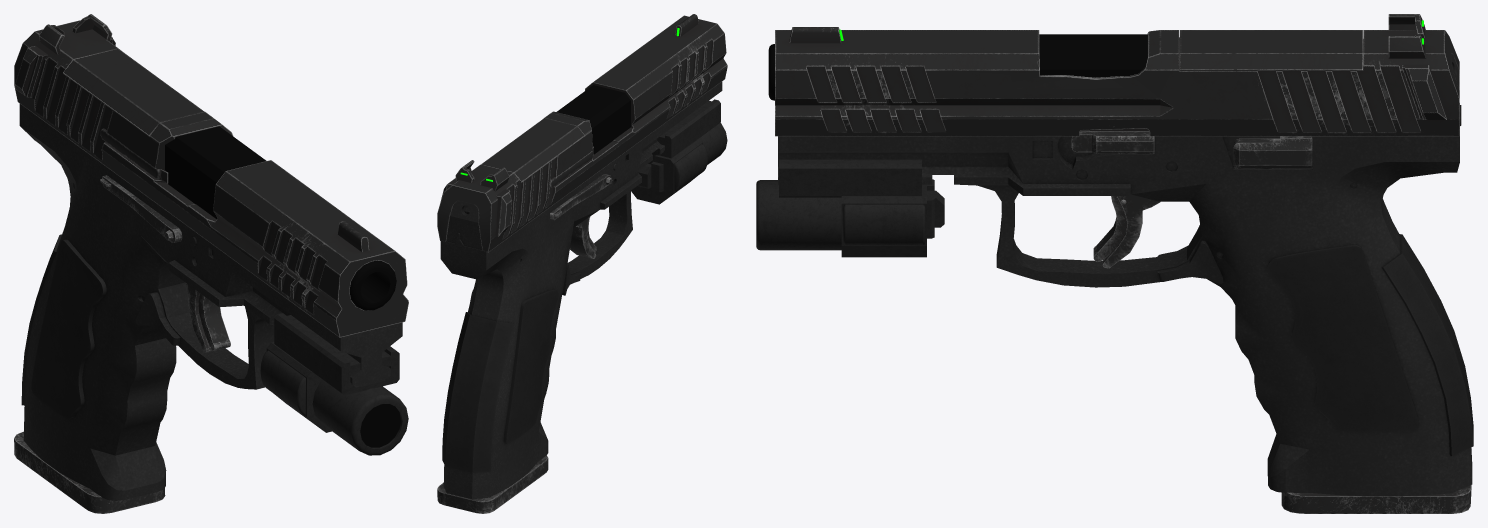
3 views of the same model, side by side, from view 1: azimuth 30°, elevation 25°; view 2: azimuth 150°, elevation 25°; view 3: azimuth 270°, elevation 25° (orthographic). The views are drawn at different scales.
Parts seen in each view (by area): view 1: Frame_5; view 2: Frame_5; view 3: Frame_5.
Boxes of the visible parts, left/top/right/bottom form: Frame_5: left=14, top=14, right=408, bottom=513; Frame_5: left=437, top=14, right=727, bottom=513; Frame_5: left=756, top=14, right=1473, bottom=513.
Bounding box in the file's own units: 2.92 × 13.5 × 18.7.
Materials: 7 (6 with a texture image).
